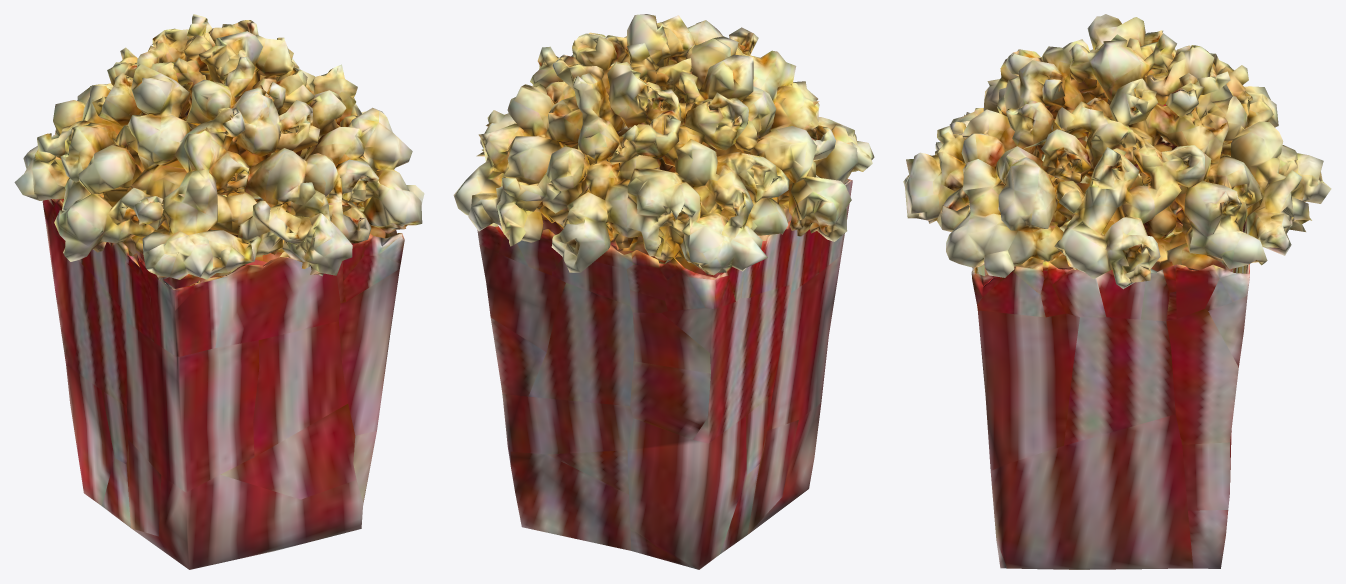
3 views of the same model, side by side, from view 1: azimuth 30°, elevation 25°; view 2: azimuth 150°, elevation 25°; view 3: azimuth 270°, elevation 25° (orthographic). The views are drawn at different scales.
Size of the model in its own units: 1.4 by 1.89 by 1.49.
1 material, 1 textured.
